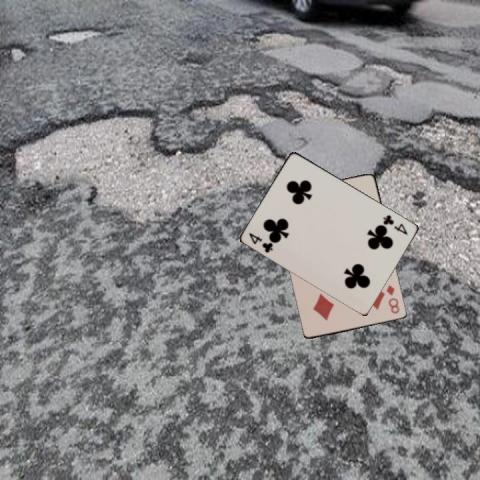4c: (246, 229, 275, 254), (381, 212, 409, 236)
8d: (384, 282, 402, 315)
